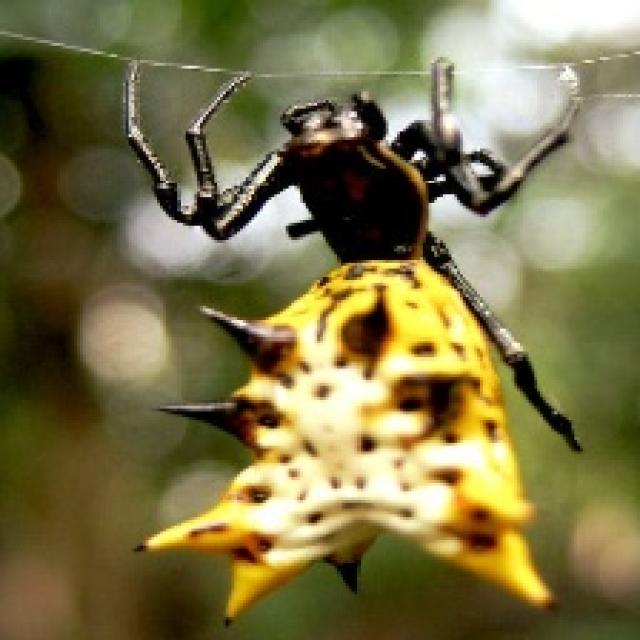Non venomous spider: (118, 39, 606, 620)
